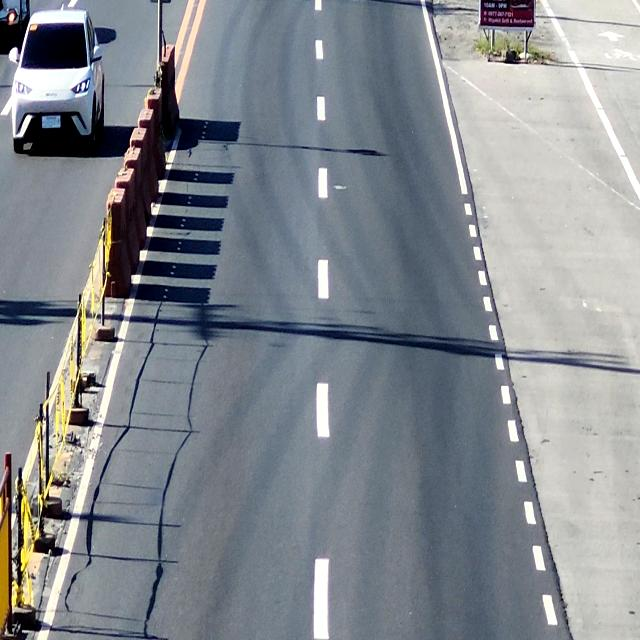License-Plate: (39, 112, 61, 134)
